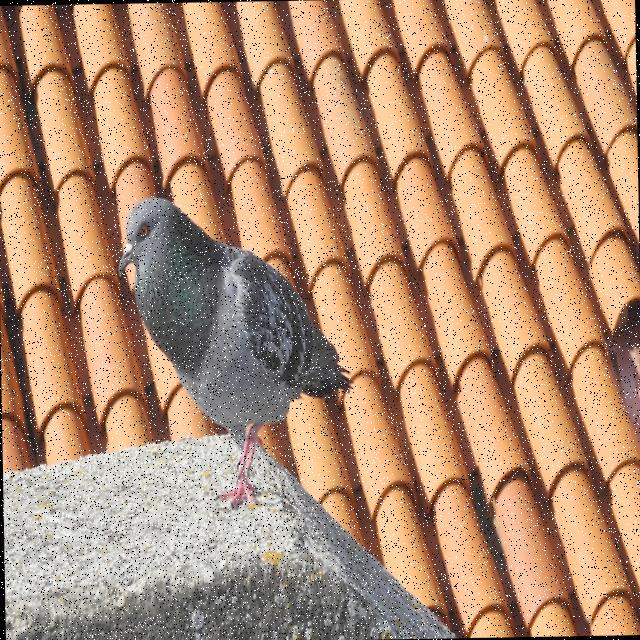bird: (116, 193, 357, 512)
